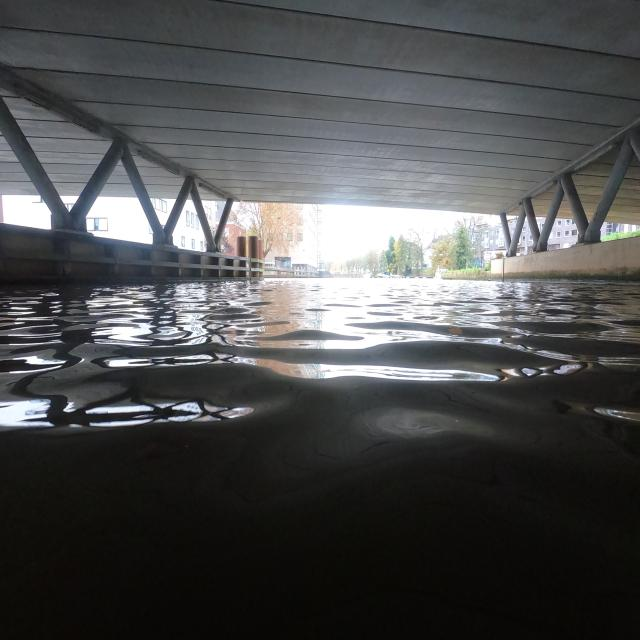sky: (320, 204, 470, 263)
wall: (0, 225, 250, 282), (489, 236, 640, 282)
water: (0, 276, 640, 640)
